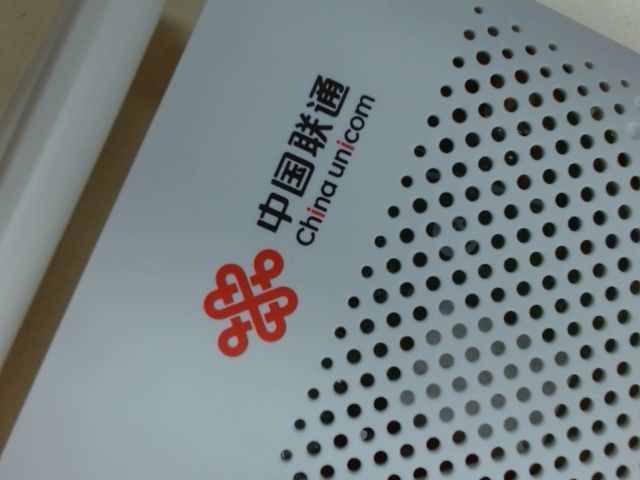AD_ChinaUnicom: (180, 65, 378, 367)
